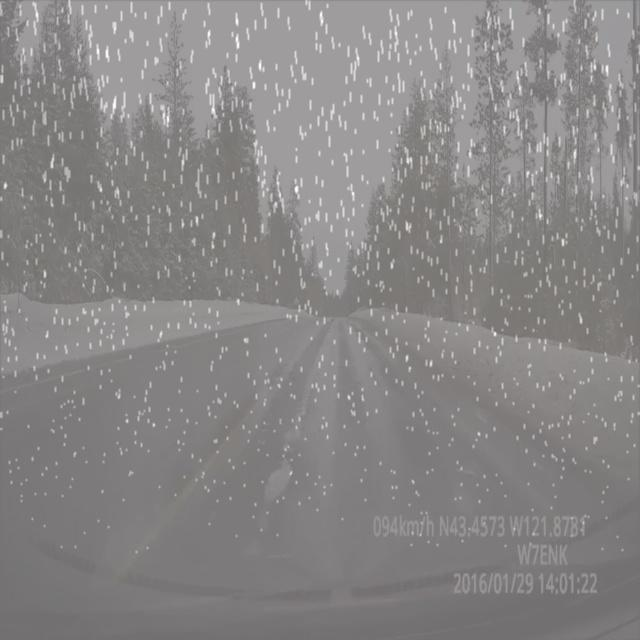Pothole: (255, 442, 302, 510)
